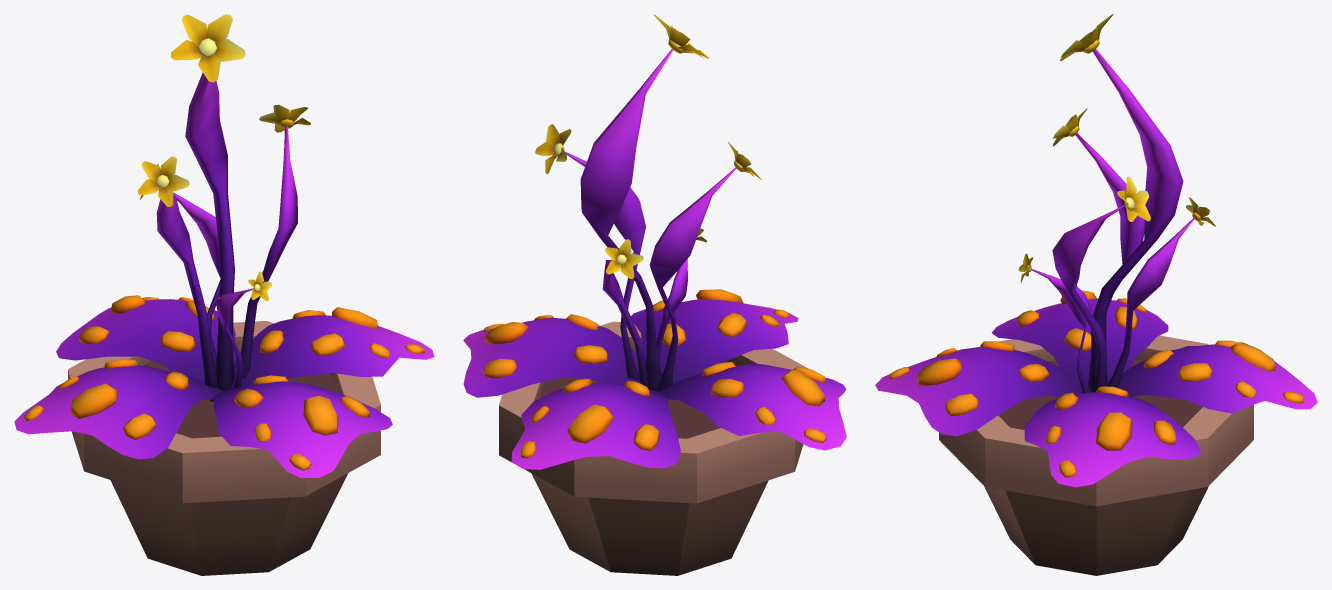
The model's file is wp_wPot_19.fbx.
The picture shows the model from 3 angles, left to right: view 1: azimuth 30°, elevation 25°; view 2: azimuth 150°, elevation 25°; view 3: azimuth 270°, elevation 25°; orthographic projection. The views are drawn at different scales.
Visible parts, largest first — view 1: w_pl19; view 2: w_pl19; view 3: w_pl19.
Part boxes in pixels (left/top/right/bottom): w_pl19: left=14, top=14, right=434, bottom=575; w_pl19: left=463, top=14, right=846, bottom=575; w_pl19: left=875, top=14, right=1317, bottom=575.
Bounding box in the file's own units: 153 × 195 × 153.
